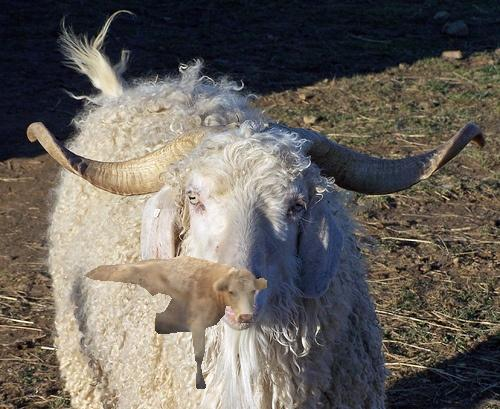tampered: (85, 256, 267, 389)
